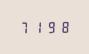eight: (57, 19, 69, 33)
nine: (44, 19, 56, 33)
one: (31, 20, 43, 34)
seven: (18, 20, 30, 34)
